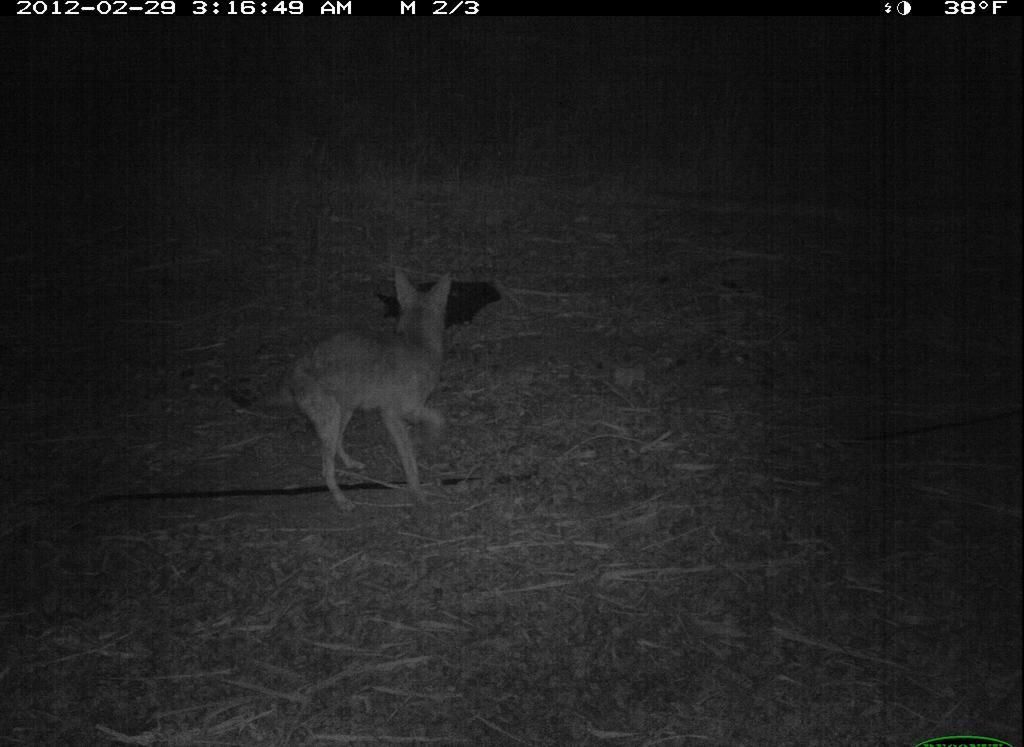coyote: (245, 259, 479, 520)
